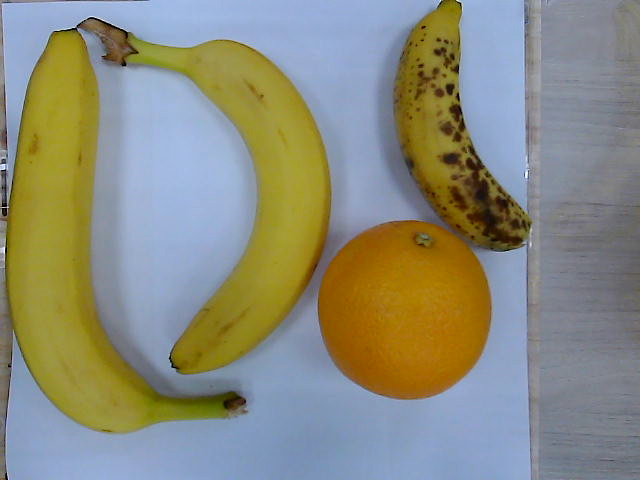fresh_banana: (81, 17, 333, 377), (8, 28, 172, 435)
fresh_orange: (317, 219, 492, 401)
rotten_banana: (392, 1, 534, 251)
